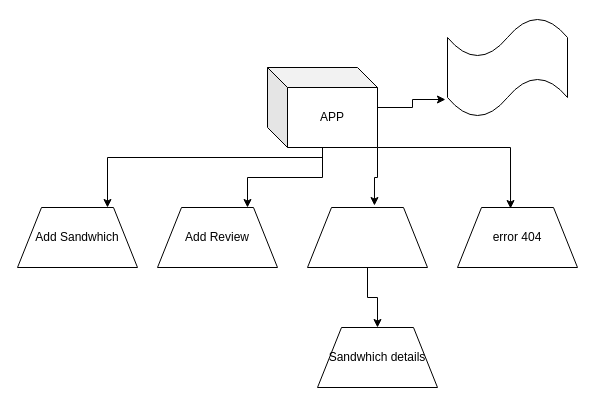
Some shapes in this 595 by 405 pixel diagram are drawn without their labels. Each missing label, with the box of its shape:
header (Always): (446, 16, 568, 118)
Sandwhich newsfeed: (306, 206, 428, 268)
